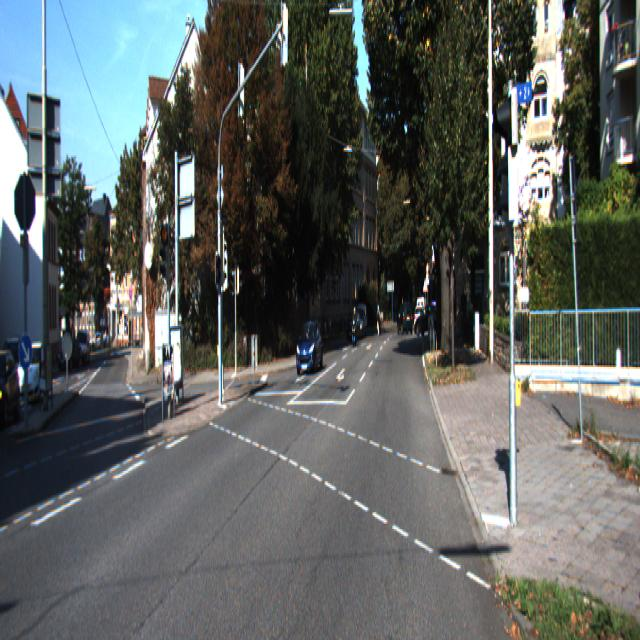Car: (0, 346, 21, 434), (296, 316, 324, 376)
DontCare: (56, 318, 110, 382), (394, 286, 449, 345), (19, 324, 52, 422), (356, 290, 368, 341)
Misc: (351, 304, 358, 346)
